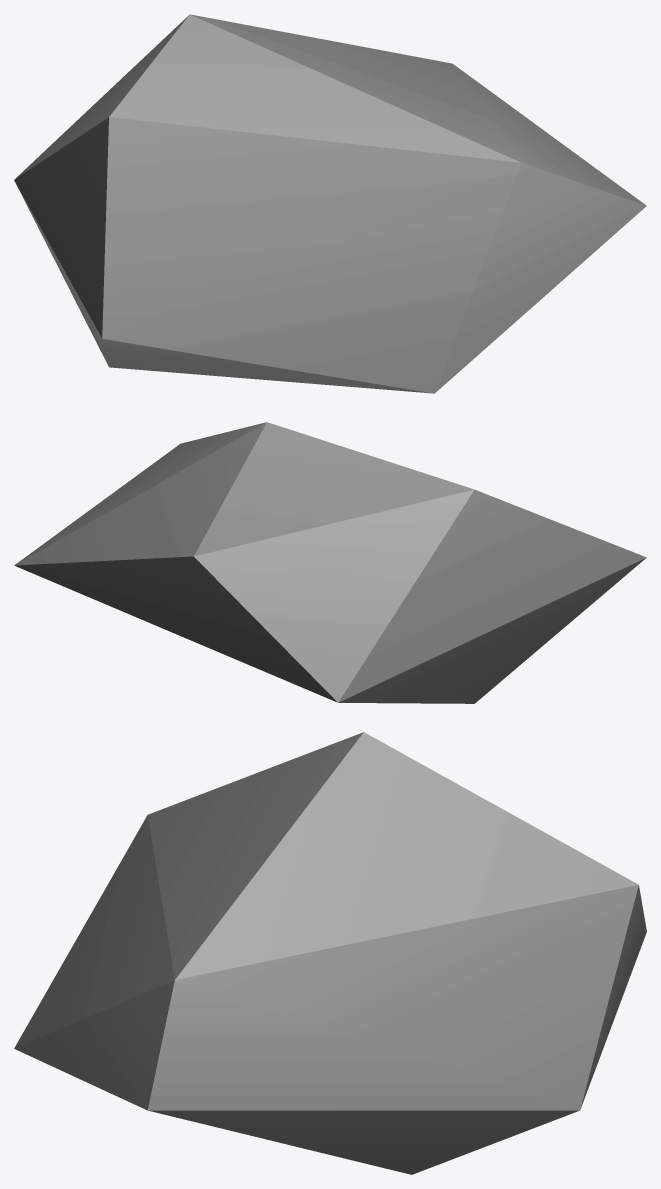
The model's file is GL-Rock-03-LOD2.fbx.
The picture shows the model from 3 angles, top to bottom: view 1: azimuth 30°, elevation 25°; view 2: azimuth 150°, elevation 25°; view 3: azimuth 270°, elevation 25°; orthographic projection. The views are drawn at different scales.
Visible parts, largest first — view 1: GL_Rock_03; view 2: GL_Rock_03; view 3: GL_Rock_03.
Part boxes in pixels (x1,y1,x2,y2): GL_Rock_03: (14,14,646,393); GL_Rock_03: (14,422,646,703); GL_Rock_03: (14,732,646,1174).
Size of the model in its own units: 1.85 by 0.811 by 1.67.
